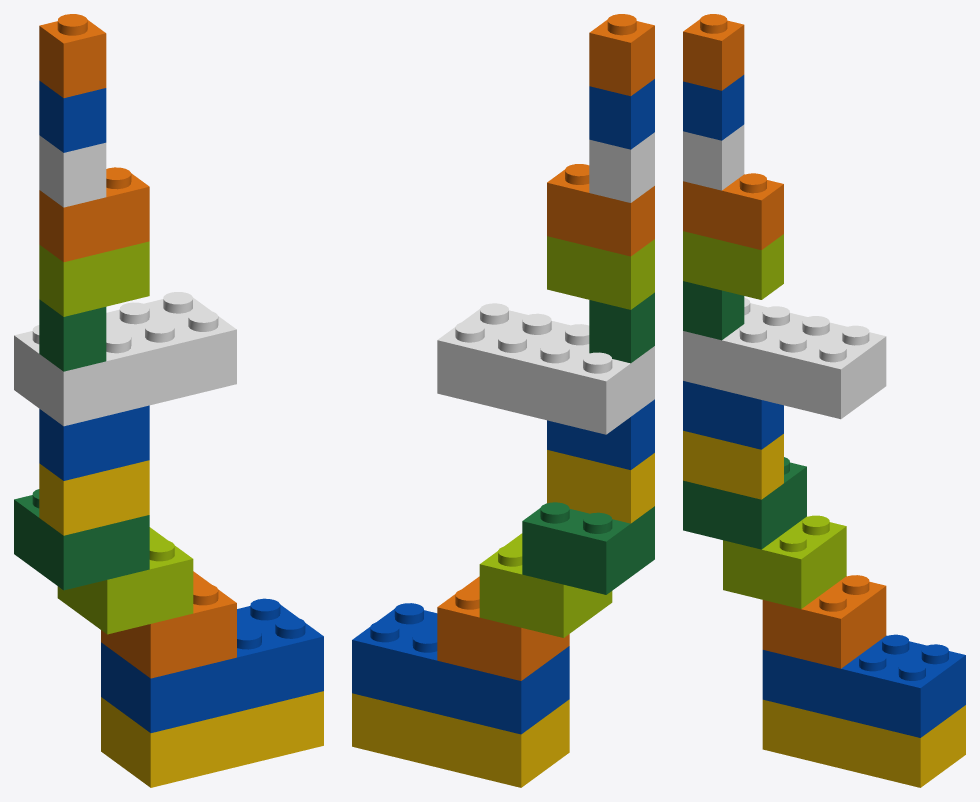
File: best.glb
The picture shows the model from 3 angles, left to right: view 1: azimuth 30°, elevation 25°; view 2: azimuth 150°, elevation 25°; view 3: azimuth 330°, elevation 25°; orthographic projection. The views are drawn at different scales.
Visible parts, largest first — view 1: brick_007_brick_2x4, brick_001_brick_2x4, brick_000_brick_2x4, brick_004_brick_2x2, brick_003_brick_2x2, brick_002_brick_2x2, brick_010_brick_1x2, brick_005_brick_1x2, brick_006_brick_1x2, brick_009_brick_1x2, brick_013_brick_1x1, brick_011_brick_1x1 (+2 smaller); view 2: brick_007_brick_2x4, brick_001_brick_2x4, brick_000_brick_2x4, brick_004_brick_2x2, brick_003_brick_2x2, brick_002_brick_2x2, brick_010_brick_1x2, brick_009_brick_1x2, brick_005_brick_1x2, brick_013_brick_1x1, brick_006_brick_1x2, brick_012_brick_1x1 (+2 smaller); view 3: brick_007_brick_2x4, brick_001_brick_2x4, brick_000_brick_2x4, brick_002_brick_2x2, brick_003_brick_2x2, brick_004_brick_2x2, brick_010_brick_1x2, brick_005_brick_1x2, brick_009_brick_1x2, brick_006_brick_1x2, brick_013_brick_1x1, brick_011_brick_1x1 (+2 smaller).
Boxes of the visible parts, <box> form: brick_007_brick_2x4: <box>14,292,236,426</box>; brick_001_brick_2x4: <box>101,598,323,732</box>; brick_000_brick_2x4: <box>101,691,323,787</box>; brick_004_brick_2x2: <box>14,489,149,590</box>; brick_003_brick_2x2: <box>57,527,193,634</box>; brick_002_brick_2x2: <box>101,571,236,678</box>; brick_010_brick_1x2: <box>39,167,149,262</box>; brick_005_brick_1x2: <box>39,460,149,535</box>; brick_006_brick_1x2: <box>39,405,149,480</box>; brick_009_brick_1x2: <box>39,241,149,316</box>; brick_013_brick_1x1: <box>39,14,106,97</box>; brick_011_brick_1x1: <box>39,135,106,207</box>; brick_007_brick_2x4: <box>437,303,654,434</box>; brick_001_brick_2x4: <box>352,603,569,734</box>; brick_000_brick_2x4: <box>352,693,569,787</box>; brick_004_brick_2x2: <box>522,502,654,594</box>; brick_003_brick_2x2: <box>479,533,612,637</box>; brick_002_brick_2x2: <box>437,576,569,680</box>; brick_010_brick_1x2: <box>547,164,654,256</box>; brick_009_brick_1x2: <box>547,236,654,309</box>; brick_005_brick_1x2: <box>547,450,654,523</box>; brick_013_brick_1x1: <box>589,14,654,96</box>; brick_006_brick_1x2: <box>547,399,654,469</box>; brick_012_brick_1x1: <box>589,79,654,149</box>; brick_007_brick_2x4: <box>683,297,886,419</box>; brick_001_brick_2x4: <box>762,634,965,737</box>; brick_000_brick_2x4: <box>762,699,965,787</box>; brick_002_brick_2x2: <box>762,575,886,668</box>; brick_003_brick_2x2: <box>723,515,846,608</box>; brick_004_brick_2x2: <box>683,457,806,549</box>; brick_010_brick_1x2: <box>683,173,783,249</box>; brick_005_brick_1x2: <box>683,430,783,499</box>; brick_009_brick_1x2: <box>683,231,783,299</box>; brick_006_brick_1x2: <box>683,381,783,449</box>; brick_013_brick_1x1: <box>683,14,744,90</box>; brick_011_brick_1x1: <box>683,124,744,190</box>.
Bounding box in the file's own units: 0.0478 × 0.136 × 0.0158.
